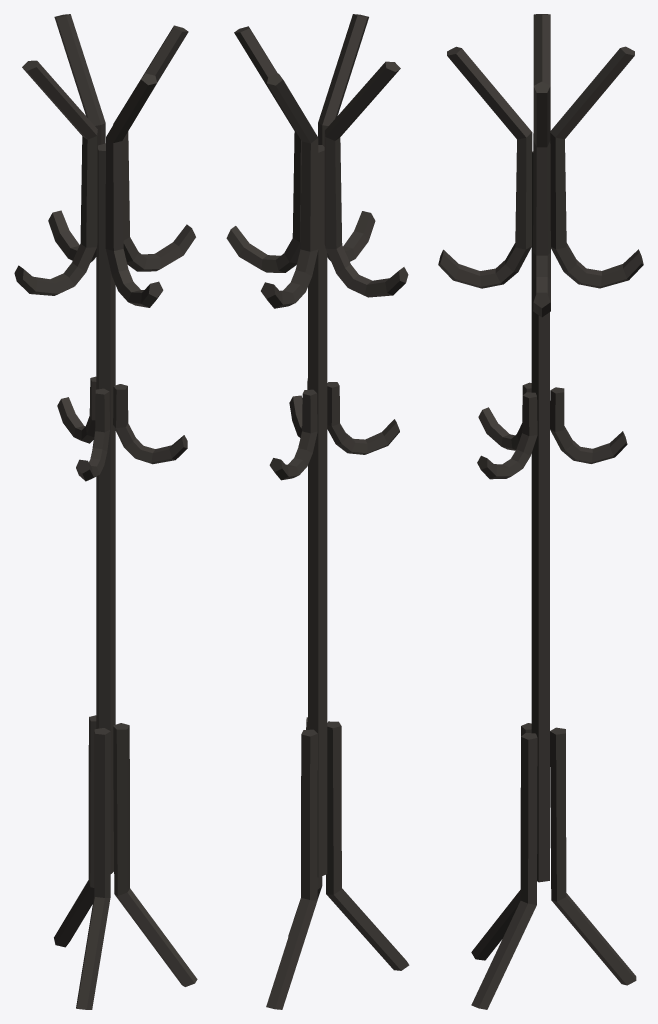
File: SM_Hanger_01.glb
The picture shows the model from 3 angles, left to right: view 1: azimuth 30°, elevation 25°; view 2: azimuth 150°, elevation 25°; view 3: azimuth 270°, elevation 25°; orthographic projection.
Visible parts, largest first — view 1: SM_Hanger_01; view 2: SM_Hanger_01; view 3: SM_Hanger_01.
Part boxes in pixels (x1,y1,x2,y2): SM_Hanger_01: (14,14,197,1009); SM_Hanger_01: (226,14,409,1009); SM_Hanger_01: (438,14,643,1009).
Size of the model in its own units: 0.4144 by 2.09 by 0.4157.
1 material, 1 textured.
